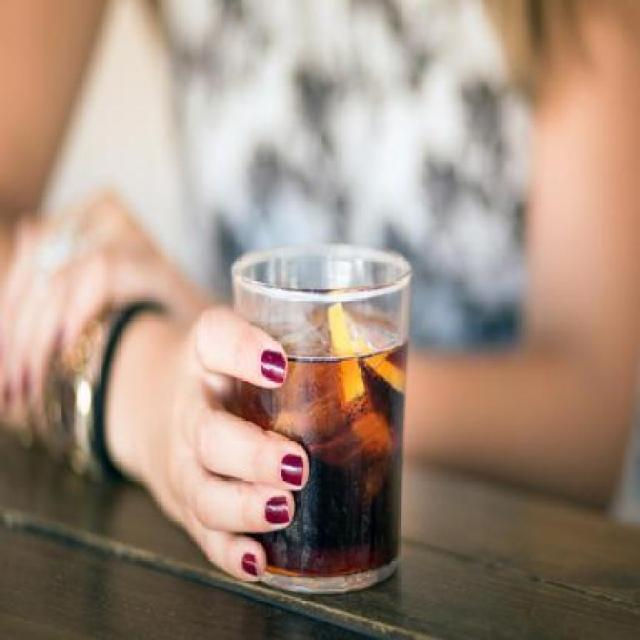Coke: (229, 240, 414, 600)
